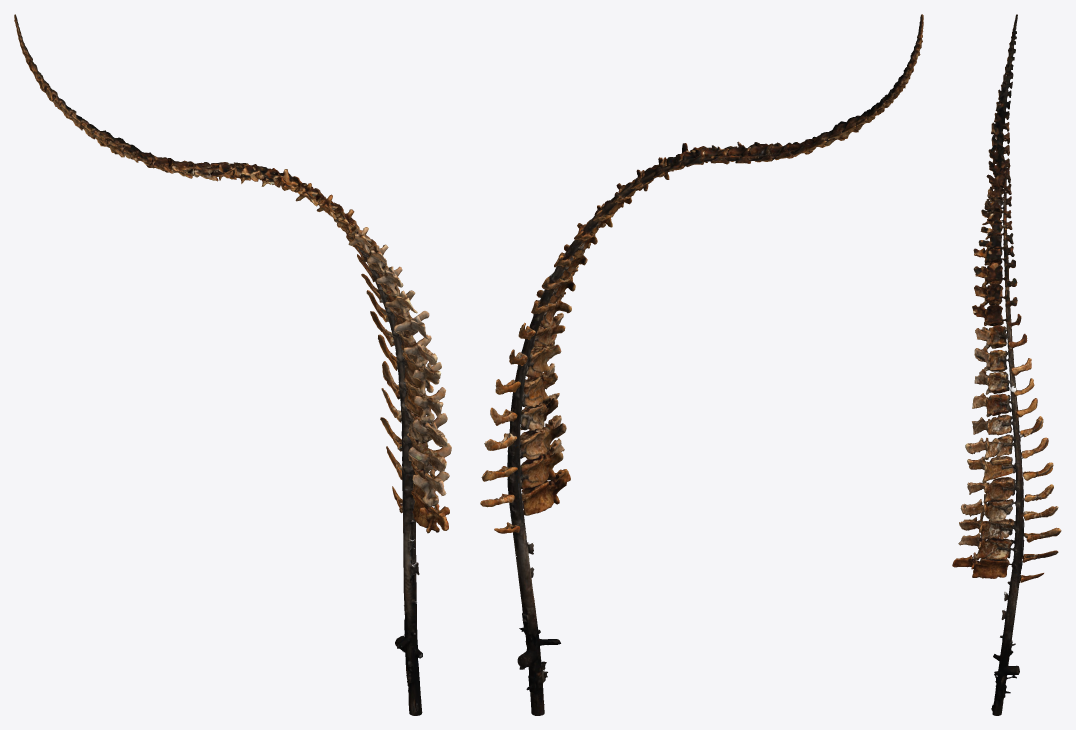
File: trex-p2-low.glb
3 views of the same model, side by side, from view 1: azimuth 30°, elevation 25°; view 2: azimuth 150°, elevation 25°; view 3: azimuth 270°, elevation 25° (orthographic). The views are drawn at different scales.
Size of the model in its own units: 3.31 by 6.01 by 1.06.
Materials: 1 (1 with a texture image).
